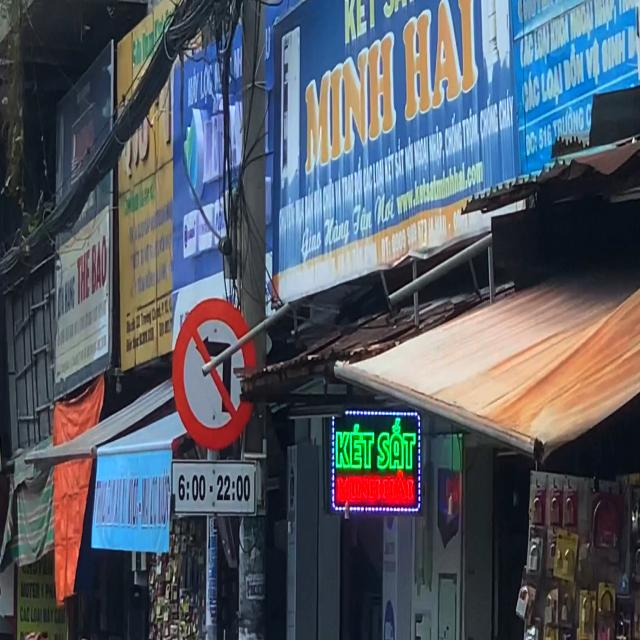Cam re trai: (172, 299, 257, 450)
